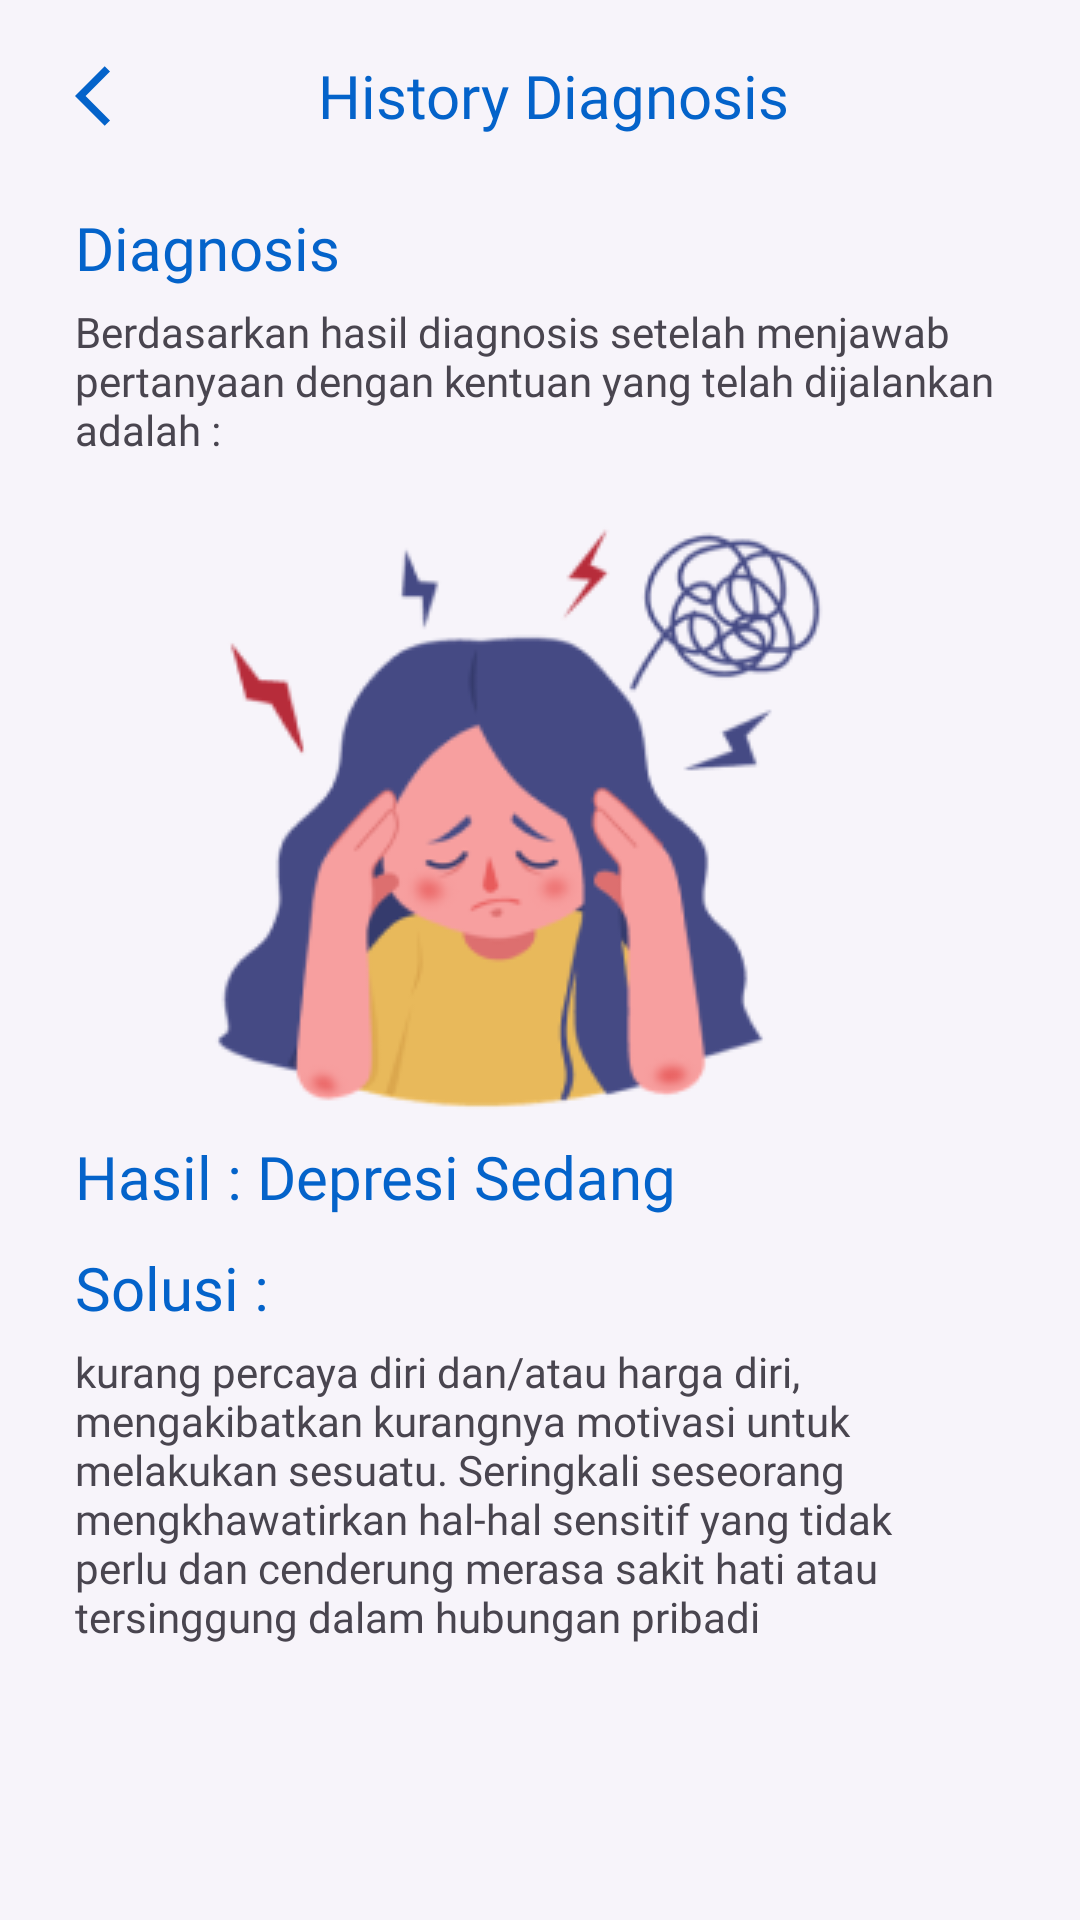

Named icons in this screenshot (1080×1920) and their centers, [x,y]:
Button Back: [92,96]
